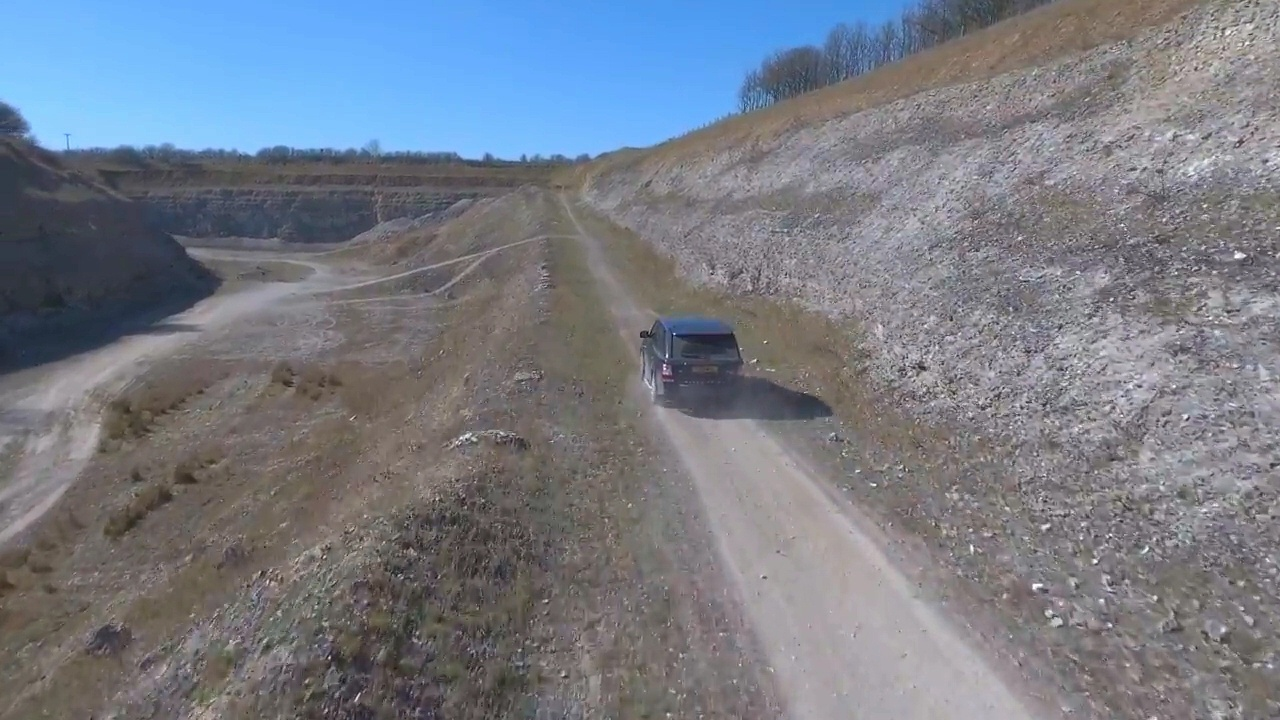araba: (639, 317, 750, 413)
